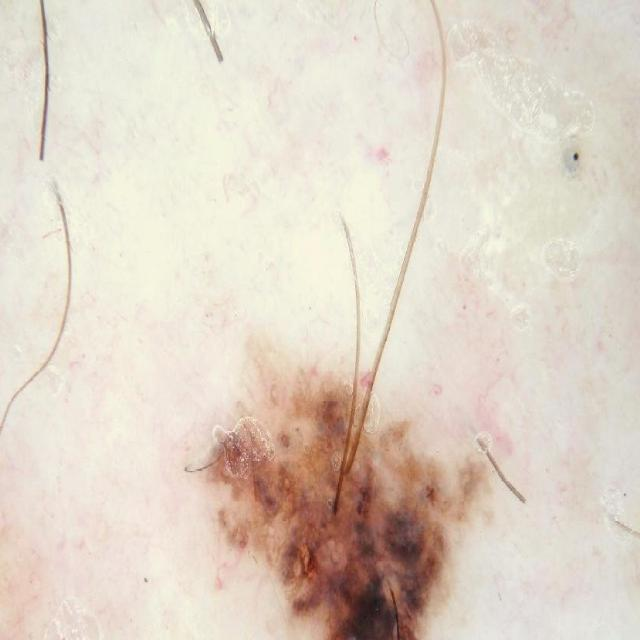Melanoma: (158, 271, 491, 640)
